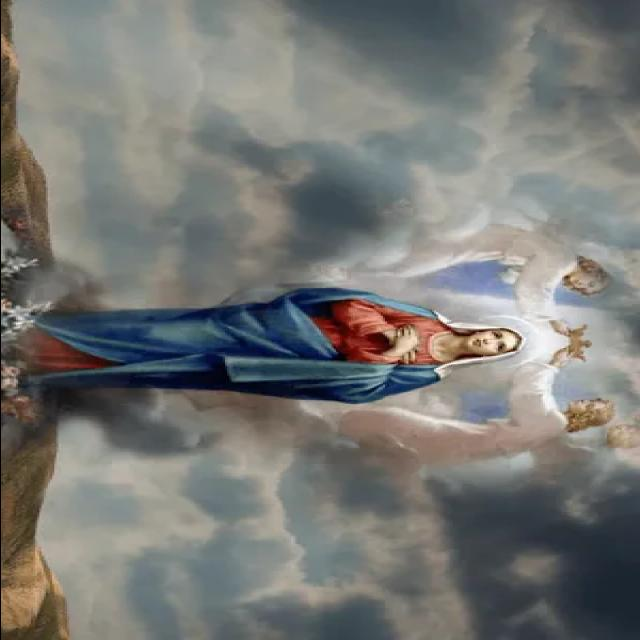mother of god: (21, 280, 537, 406)
